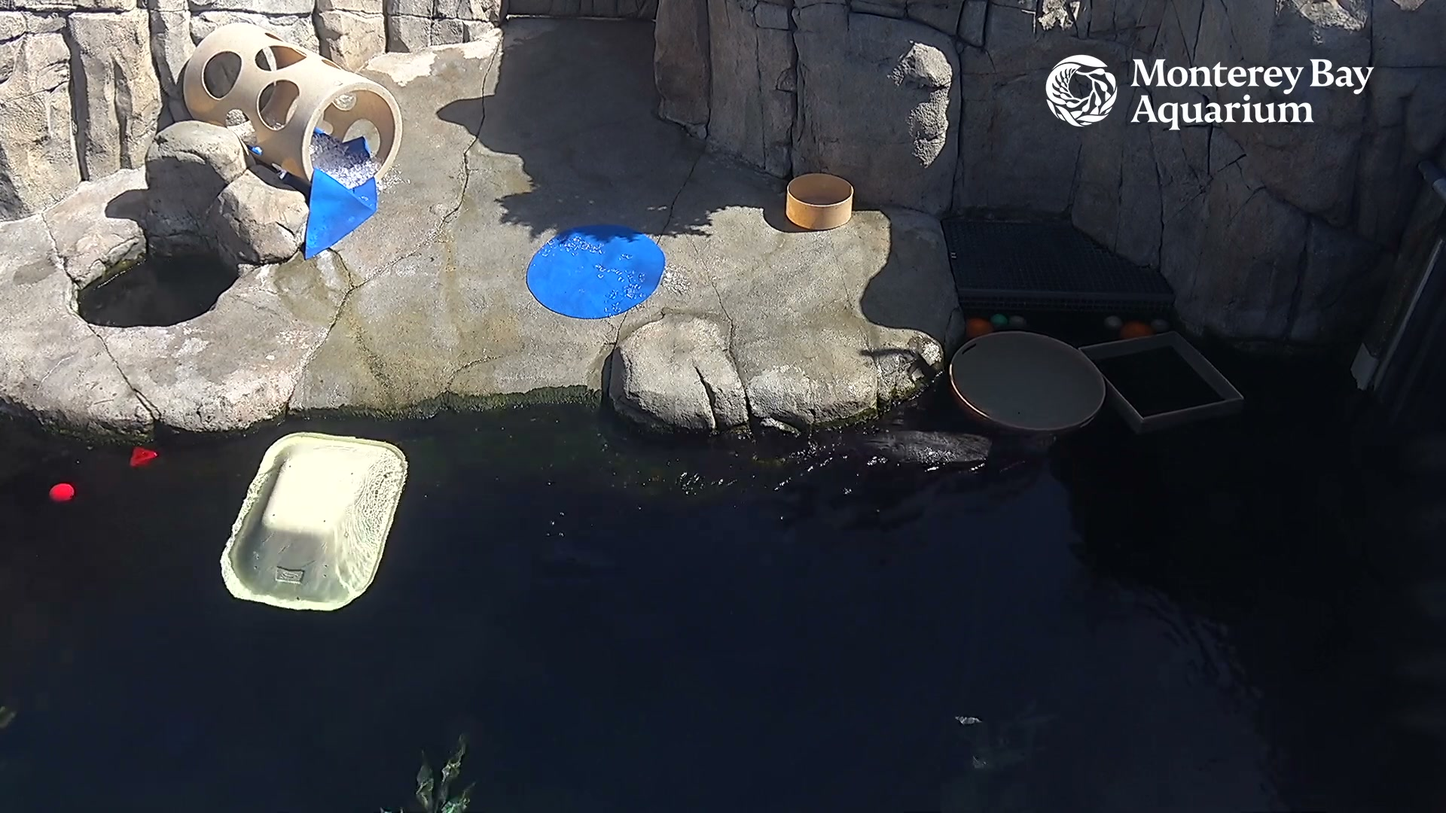Southern Sea Otter: (837, 399, 1002, 497)
